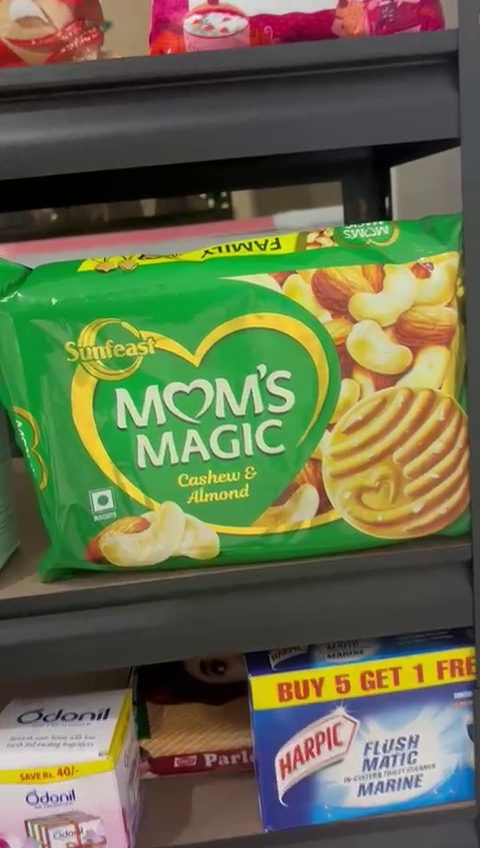Moms magic: (8, 258, 479, 571)
